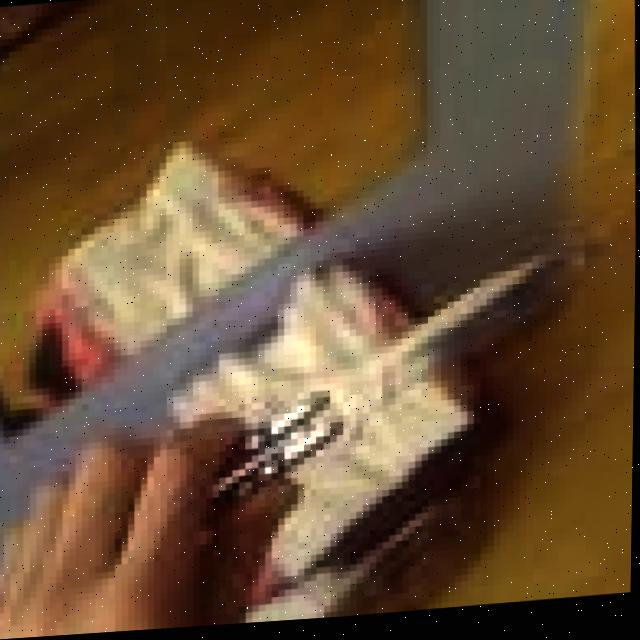knife: (199, 243, 567, 511)
